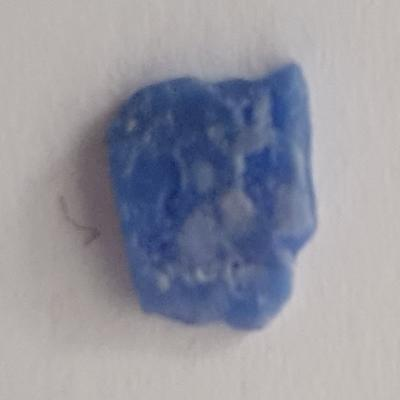plastic: (93, 38, 324, 356)
